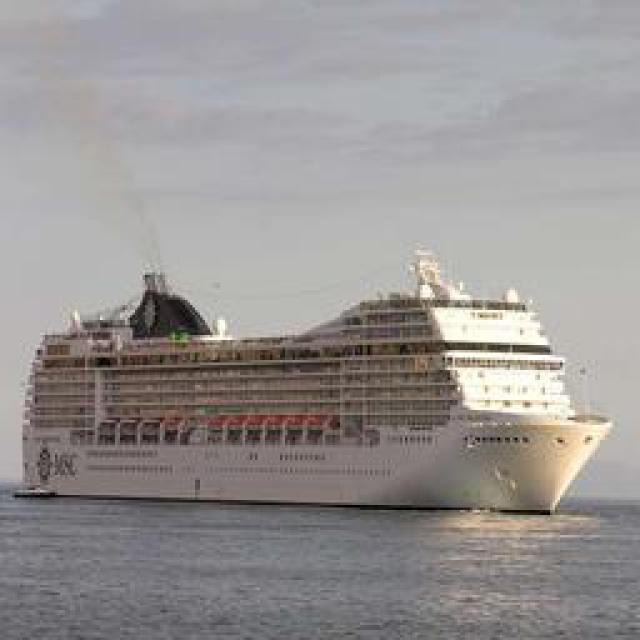Ship: (1, 261, 604, 517)
